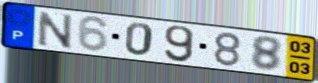0: (123, 21, 155, 57)
6: (75, 15, 113, 55)
8: (249, 34, 283, 73), (212, 31, 245, 68)
9: (163, 25, 196, 64)
N: (36, 9, 74, 50)
